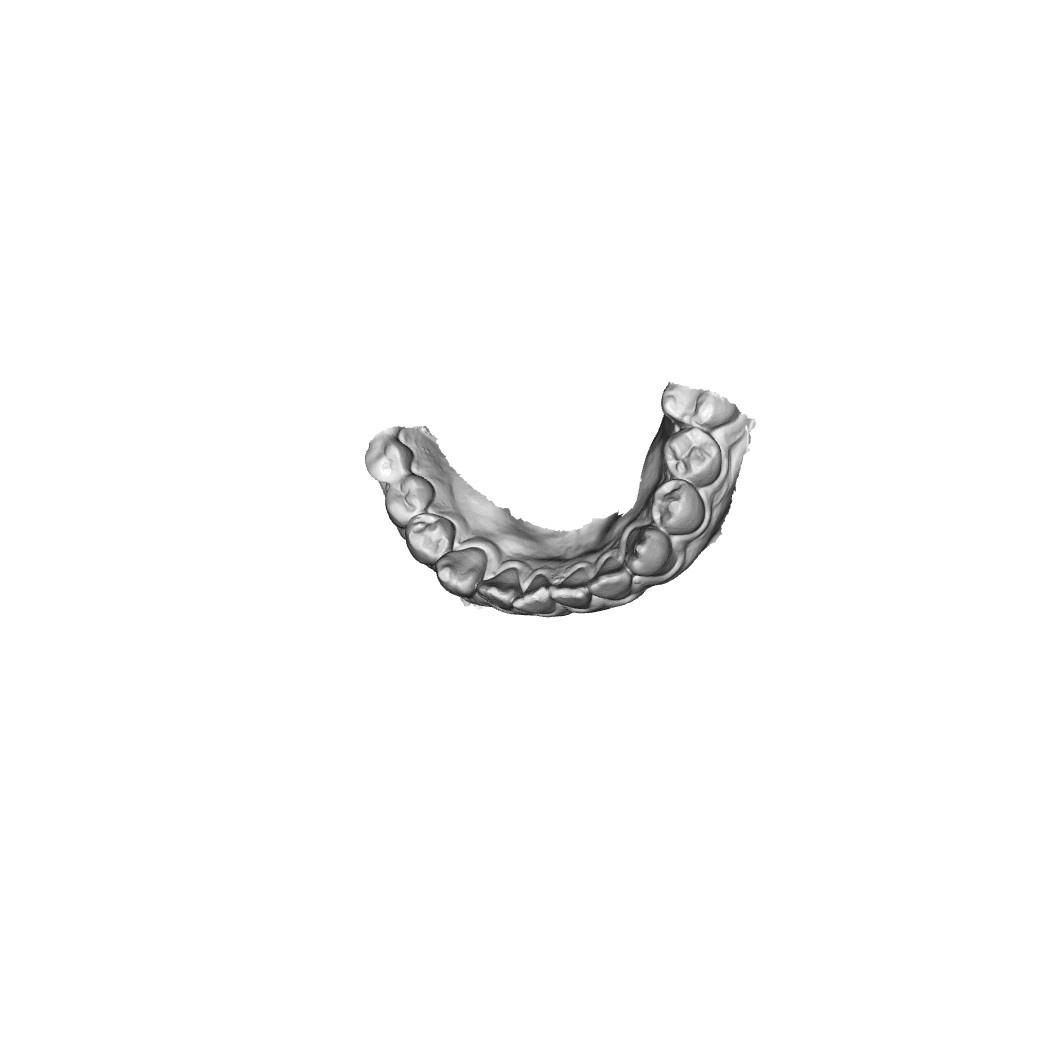canine: (434, 544, 488, 598), (622, 526, 673, 573)
incisor: (475, 565, 522, 614), (555, 566, 594, 611), (518, 572, 557, 617), (595, 558, 630, 595)
premolar: (664, 427, 721, 484), (652, 479, 709, 533), (409, 513, 457, 568), (384, 477, 433, 522)
